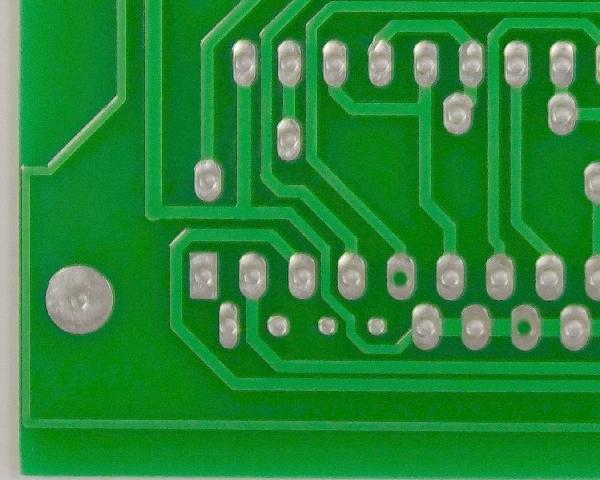missing hole: (382, 249, 422, 307), (506, 300, 548, 351)
